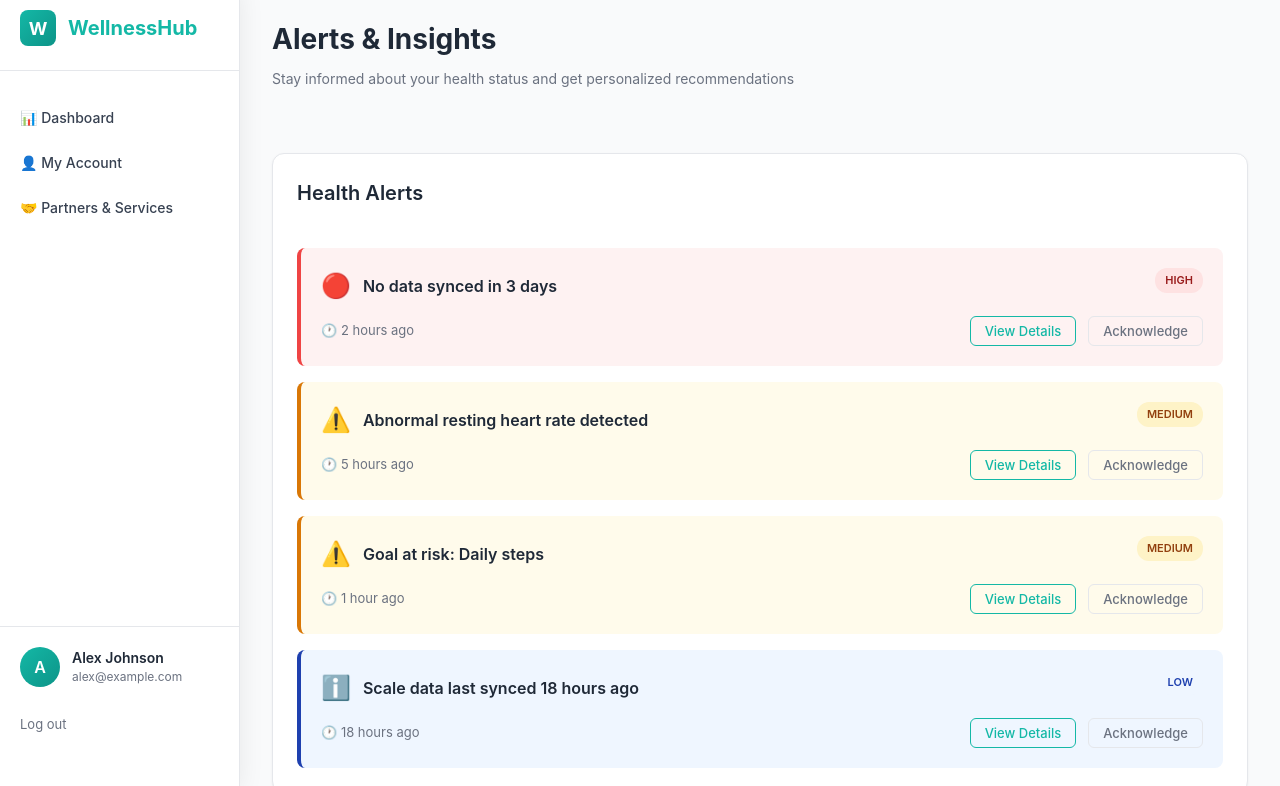
Scenario: acknowledging does not remove health_record or goal rows — only removes the card from view
Expected: the heading "Health Alerts" is shown, x1=297 y1=181 x2=423 y2=205
What coordinates should you click on to do the following:
click the button "Acknowledge" in the row of "2 hours ago"
I would click on:
 (1146, 331)
Its box is x1=1088 y1=316 x2=1203 y2=346.
(page scrolled)
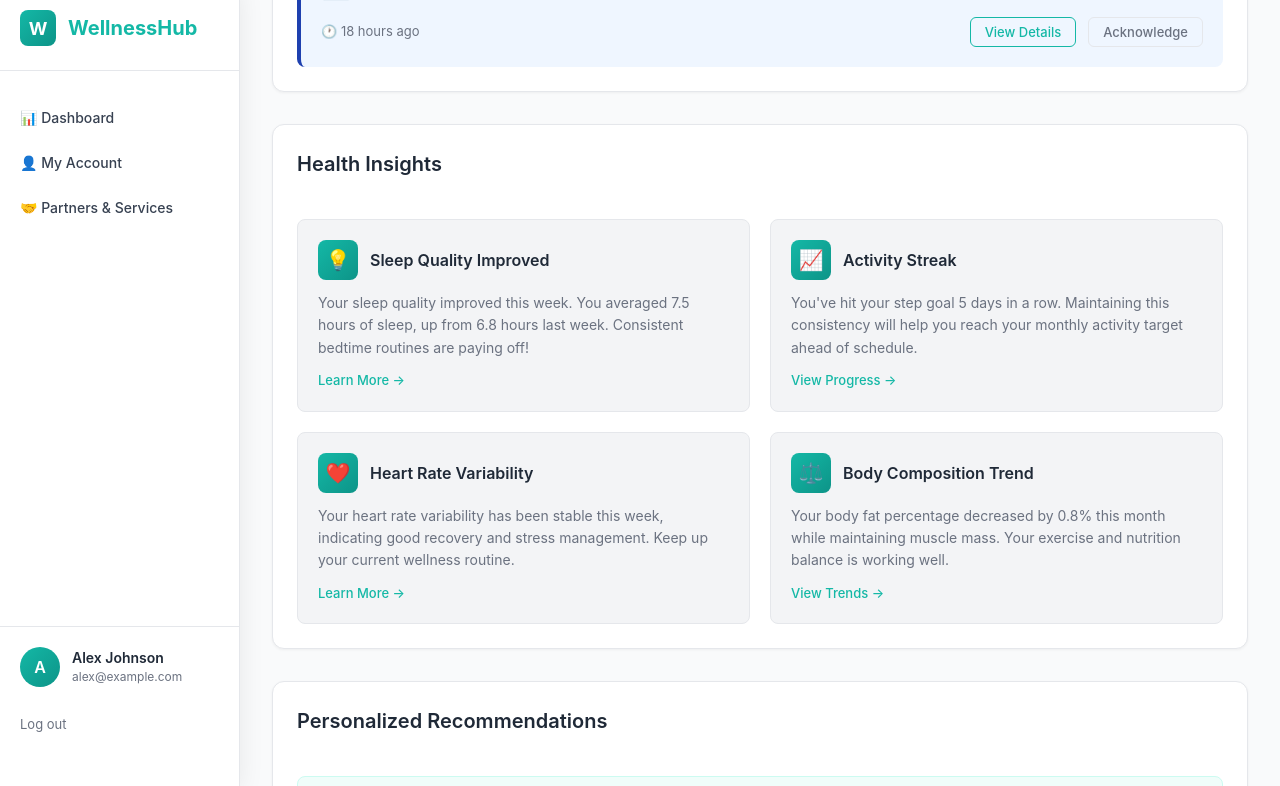
Expected: the element "Health Insights" is shown, x1=272 y1=124 x2=1248 y2=649
Result: the number of buttons "Acknowledge" is 3
